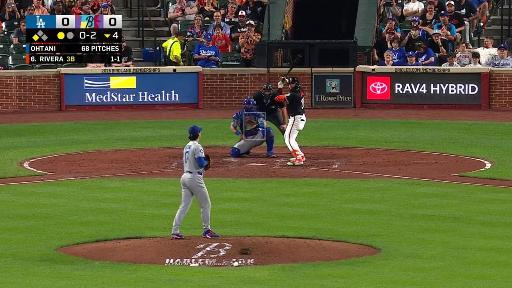pitcher: (171, 125, 221, 239)
